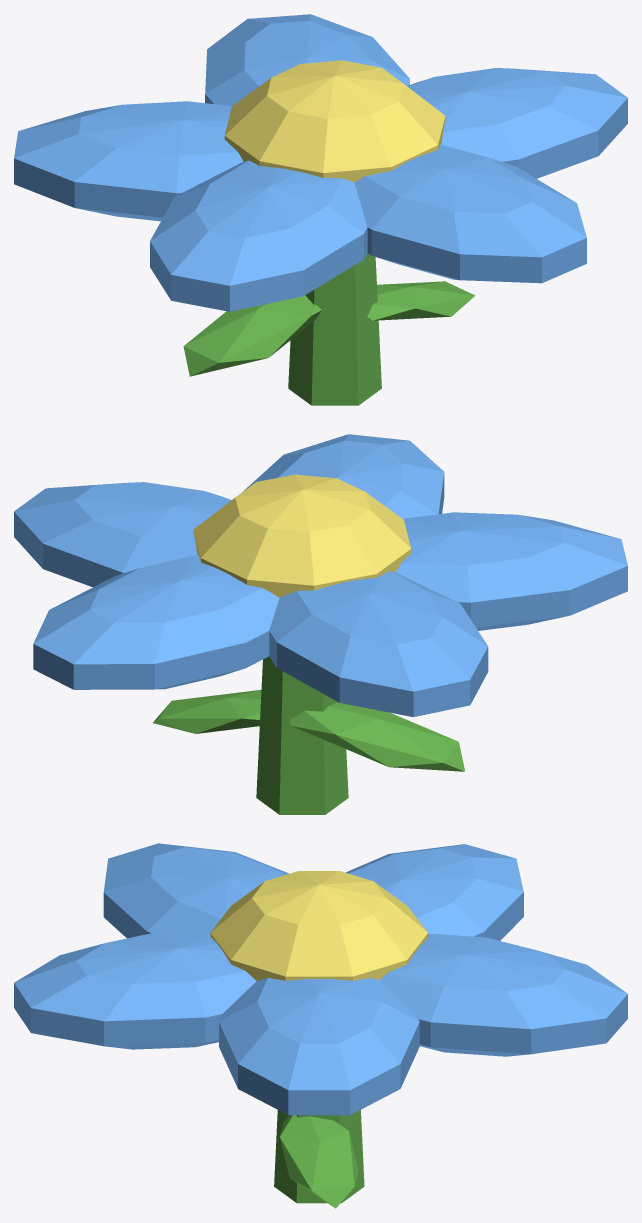
The model's file is blue-flower-patch.glb.
3 views of the same model, one above another, from view 1: azimuth 30°, elevation 25°; view 2: azimuth 150°, elevation 25°; view 3: azimuth 270°, elevation 25° (orthographic). The views are drawn at different scales.
Parts seen in each view (by area): view 1: Blue flower petal 4, Blue flower petal 5, Blue flower petal 3, Blue flower center, Blue flower petal 1, Blue flower stem, Blue flower petal 2, Blue flower leaf left, Blue flower leaf right; view 2: Blue flower petal 2, Blue flower petal 3, Blue flower petal 4, Blue flower center, Blue flower petal 1, Blue flower stem, Blue flower petal 5, Blue flower leaf left, Blue flower leaf right; view 3: Blue flower petal 1, Blue flower petal 2, Blue flower petal 5, Blue flower center, Blue flower petal 4, Blue flower petal 3, Blue flower leaf right, Blue flower stem.
Part boxes in pixels (left/top/right/bottom): Blue flower petal 4: left=150, top=160, right=367, bottom=311; Blue flower petal 5: left=354, top=144, right=586, bottom=283; Blue flower petal 3: left=14, top=101, right=243, bottom=221; Blue flower center: left=224, top=60, right=445, bottom=182; Blue flower petal 1: left=407, top=68, right=627, bottom=178; Blue flower stem: left=288, top=253, right=381, bottom=405; Blue flower petal 2: left=205, top=14, right=409, bottom=105; Blue flower leaf left: left=183, top=295, right=321, bottom=376; Blue flower leaf right: left=367, top=281, right=475, bottom=320; Blue flower petal 2: left=33, top=555, right=279, bottom=689; Blue flower petal 3: left=269, top=571, right=488, bottom=717; Blue flower petal 4: left=396, top=512, right=627, bottom=630; Blue flower center: left=193, top=474, right=411, bottom=597; Blue flower petal 1: left=14, top=482, right=231, bottom=587; Blue flower stem: left=256, top=656, right=348, bottom=814; Blue flower petal 5: left=243, top=434, right=444, bottom=518; Blue flower leaf left: left=290, top=702, right=464, bottom=771; Blue flower leaf right: left=153, top=689, right=261, bottom=733; Blue flower petal 1: left=219, top=978, right=419, bottom=1115; Blue flower petal 2: left=379, top=933, right=627, bottom=1056; Blue flower petal 5: left=14, top=929, right=256, bottom=1049; Blue flower center: left=210, top=871, right=428, bottom=980; Blue flower petal 4: left=103, top=843, right=289, bottom=938; Blue flower petal 3: left=346, top=844, right=523, bottom=940; Blue flower leaf right: left=280, top=1115, right=358, bottom=1208; Blue flower stem: left=274, top=1110, right=364, bottom=1203.
Bounding box in the file's own units: 0.284 × 0.162 × 0.2985.
